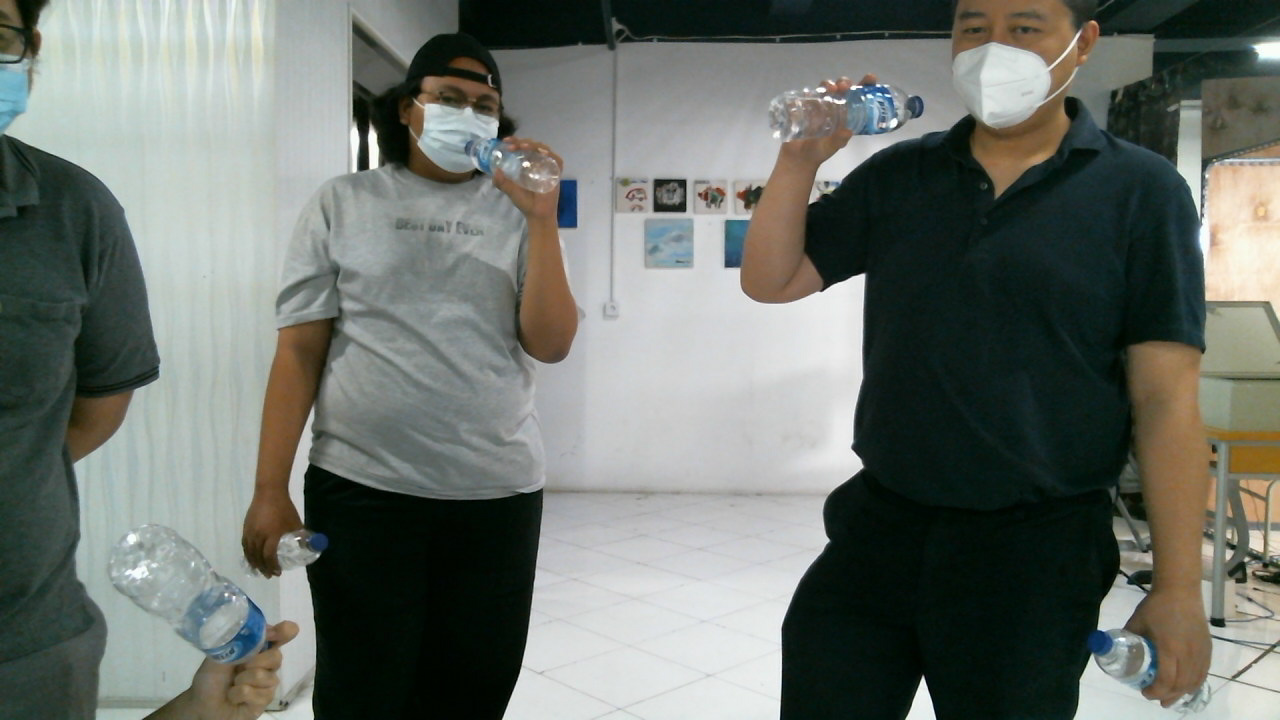Bottle: (107, 526, 273, 671), (774, 81, 926, 142), (461, 136, 559, 196)
